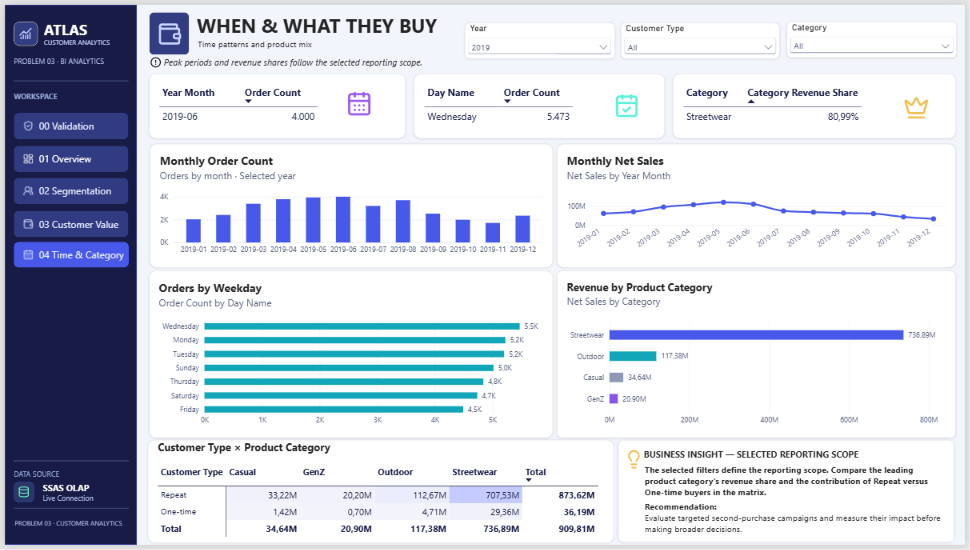

The dashboard page shown, as its layout file describes it:
{"tool":"powerbi","page":{"name":"04_Time_Category","canvas":[1600,900],"ordinal":4},"visuals":[{"type":"shape","box":[0,0,220,900],"z":0,"group":"g1"},{"type":"image","box":[238.3,86.3,26.7,18.3],"z":0,"group":"g3"},{"type":"columnChart","title":"Monthly Order Count","fields":{"Category":["Date.Year Month"],"Y":["V FACT ORDER OFFICIAL.Order Count"]},"box":[241.7,231.7,671.7,206.7],"z":0},{"type":"textbox","box":[65.5,24.3,134.3,32],"z":1000,"group":"g1"},{"type":"textbox","box":[264.5,84.4,816.7,28.3],"z":1000,"group":"g3"},{"type":"lineChart","title":"Monthly Net Sales","fields":{"Category":["Date.Year Month"],"Y":["V FACT SALES LINE OFFICIAL.Net Sales"]},"box":[920,231.7,665,206.7],"z":1000},{"type":"actionButton","box":[15.1,180,190.9,44.1],"z":2000,"group":"g1"},{"type":"clusteredBarChart","title":"Orders by Weekday","fields":{"Category":["Date.Day Name"],"Y":["V FACT ORDER OFFICIAL.Order Count"]},"box":[240,443.7,673.3,278.3],"z":2000},{"type":"actionButton","box":[14.7,395.7,191.7,42.9],"z":3000,"group":"g1"},{"type":"clusteredBarChart","title":"Revenue by Product Category","fields":{"Category":["Product.Category"],"Y":["V FACT SALES LINE OFFICIAL.Net Sales"]},"box":[920,443.7,665,278.3],"z":3000},{"type":"actionButton","box":[15.1,288.3,190.9,44.1],"z":4000,"group":"g1"},{"type":"pivotTable","fields":{"Columns":["Product.Category"],"Rows":["Customer.Customer Type"],"Values":["V FACT SALES LINE OFFICIAL.Net Sales"]},"box":[0,915,1920,165],"z":4000},{"type":"slicer","fields":{"Values":["Date.Year"]},"box":[766.7,30,250,60],"z":5000},{"type":"actionButton","box":[15.1,342.5,190.9,44.1],"z":5000,"group":"g1"},{"type":"slicer","fields":{"Values":["Customer.Customer Type"]},"box":[1027.2,30,265,60],"z":6000},{"type":"actionButton","box":[15.1,234.2,190.9,44.1],"z":6000,"group":"g1"},{"type":"shape","box":[14.3,28,40,40],"z":7000,"group":"g1"},{"type":"slicer","fields":{"Values":["Product.Category"]},"box":[1302.7,28,283.3,60],"z":7000},{"type":"group","id":"g1","title":"Group 1","box":[0,0,220,900],"z":8000},{"type":"image","box":[23.3,37,22,22],"z":8000,"group":"g1"},{"type":"group","id":"g2","title":"Group 2","box":[240,11.7,758.3,73.3],"z":9000},{"type":"textbox","box":[64.6,51.4,135,21.4],"z":9000,"group":"g1"},{"type":"textbox","box":[319.8,11.7,653.4,53.8],"z":10000,"group":"g2"},{"type":"textbox","box":[14.7,82.7,191.8,22.7],"z":10000,"group":"g1"},{"type":"group","id":"g3","title":"Group 4","box":[238.3,84.4,842.9,28.3],"z":10000},{"type":"textbox","box":[321,55.8,677.3,22.2],"z":11000,"group":"g2"},{"type":"tableEx","fields":{"Values":["Date.Year Month","V FACT ORDER OFFICIAL.Order Count"]},"box":[240,114.3,428.3,108.3],"z":11000},{"type":"shape","box":[14.3,120,190.9,13.6],"z":11000,"group":"g1"},{"type":"shape","box":[240,12.4,68.1,72.6],"z":12000,"group":"g2"},{"type":"textbox","box":[14.3,142,186,20],"z":12000,"group":"g1"},{"type":"image","box":[568.4,142.9,45,45],"z":12000},{"type":"image","box":[253.6,27,42.3,43.4],"z":13000,"group":"g2"},{"type":"tableEx","title":"Peak Weekday","fields":{"Values":["Date.Day Name","V FACT ORDER OFFICIAL.Order Count"]},"box":[681.7,114.3,418.3,108.3],"z":13000},{"type":"shape","box":[14.3,750,192,20],"z":13000,"group":"g1"},{"type":"tableEx","title":"Top Category","fields":{"Values":["Product.Category","Measures.Category Revenue Share"]},"box":[1113.3,114.3,471.7,108.3],"z":14000},{"type":"textbox","box":[14.3,772,170,20],"z":14000,"group":"g1"},{"type":"image","box":[1015.1,146.2,43.3,45],"z":15000},{"type":"shape","box":[14.3,795,34,34],"z":15000,"group":"g1"},{"type":"image","box":[1496.8,149.6,45,43.3],"z":16000},{"type":"image","box":[21.3,802,20,20],"z":16000,"group":"g1"},{"type":"pivotTable","title":"Customer Type × Product Category","fields":{"Columns":["Product.Category"],"Rows":["Customer.Customer Type"],"Values":["V FACT SALES LINE OFFICIAL.Net Sales"]},"box":[238.3,725,776.7,171.7],"z":17000},{"type":"textbox","box":[63.9,795,120,26.7],"z":17000,"group":"g1"},{"type":"shape","box":[1021.9,725.8,561.7,171.7],"z":18000,"group":"g4"},{"type":"textbox","box":[63.9,811.7,118.3,18.3],"z":18000,"group":"g1"},{"type":"image","box":[1031.7,737.2,33.3,41.3],"z":19000,"group":"g4"},{"type":"shape","box":[15,833.3,191.7,11.7],"z":19000,"group":"g1"},{"type":"textbox","box":[1066,739.2,300,33.1],"z":20000,"group":"g4"},{"type":"textbox","box":[16.7,853.3,190,20],"z":20000,"group":"g1"},{"type":"textbox","box":[1066.7,766.5,498.3,86.8],"z":21000,"group":"g4"},{"type":"textbox","box":[1066.7,834.3,508.3,49.6],"z":22000,"group":"g4"},{"type":"group","id":"g4","title":"Group 3","box":[1021.9,725.8,561.7,171.7],"z":22001}]}

Visuals, with their boxes on the page's 1600x900 design canvas (x1, y1, x2, y2). These are canvas units, not pixel positions in the 970x550 screenshot, which may show the page scaled, cropped or inside an application window:
shape: box(0, 0, 220, 900)
image: box(238, 86, 265, 105)
"Monthly Order Count" columnChart: box(242, 232, 913, 438)
textbox: box(66, 24, 200, 56)
textbox: box(264, 84, 1081, 113)
"Monthly Net Sales" lineChart: box(920, 232, 1585, 438)
actionButton: box(15, 180, 206, 224)
"Orders by Weekday" clusteredBarChart: box(240, 444, 913, 722)
actionButton: box(15, 396, 206, 439)
"Revenue by Product Category" clusteredBarChart: box(920, 444, 1585, 722)
actionButton: box(15, 288, 206, 332)
pivotTable - Product.Category x Customer.Customer Type: box(0, 915, 1920, 1080)
slicer - Date.Year: box(767, 30, 1017, 90)
actionButton: box(15, 342, 206, 387)
slicer - Customer.Customer Type: box(1027, 30, 1292, 90)
actionButton: box(15, 234, 206, 278)
shape: box(14, 28, 54, 68)
slicer - Product.Category: box(1303, 28, 1586, 88)
"Group 1" group: box(0, 0, 220, 900)
image: box(23, 37, 45, 59)
"Group 2" group: box(240, 12, 998, 85)
textbox: box(65, 51, 200, 73)
textbox: box(320, 12, 973, 66)
textbox: box(15, 83, 206, 105)
"Group 4" group: box(238, 84, 1081, 113)
textbox: box(321, 56, 998, 78)
tableEx - Date.Year Month x V FACT ORDER OFFICIAL.Order Count: box(240, 114, 668, 223)
shape: box(14, 120, 205, 134)
shape: box(240, 12, 308, 85)
textbox: box(14, 142, 200, 162)
image: box(568, 143, 613, 188)
image: box(254, 27, 296, 70)
"Peak Weekday" tableEx: box(682, 114, 1100, 223)
shape: box(14, 750, 206, 770)
"Top Category" tableEx: box(1113, 114, 1585, 223)
textbox: box(14, 772, 184, 792)
image: box(1015, 146, 1058, 191)
shape: box(14, 795, 48, 829)
image: box(1497, 150, 1542, 193)
image: box(21, 802, 41, 822)
"Customer Type × Product Category" pivotTable: box(238, 725, 1015, 897)
textbox: box(64, 795, 184, 822)
shape: box(1022, 726, 1584, 898)
textbox: box(64, 812, 182, 830)
image: box(1032, 737, 1065, 778)
shape: box(15, 833, 207, 845)
textbox: box(1066, 739, 1366, 772)
textbox: box(17, 853, 207, 873)
textbox: box(1067, 766, 1565, 853)
textbox: box(1067, 834, 1575, 884)
"Group 3" group: box(1022, 726, 1584, 898)
